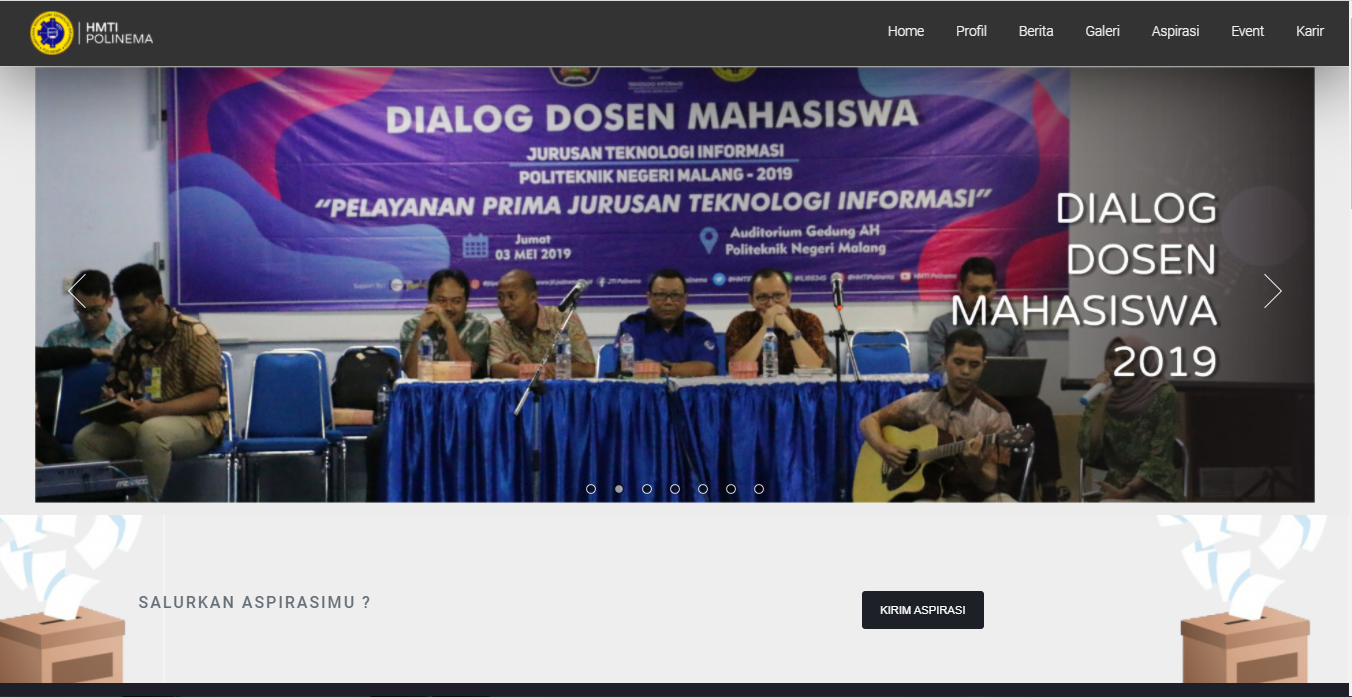Button: (856, 593, 987, 630)
Image: (36, 71, 1316, 501), (1143, 508, 1328, 682), (0, 510, 149, 684), (21, 7, 156, 61)
Menu Bar: (879, 6, 1352, 57)
